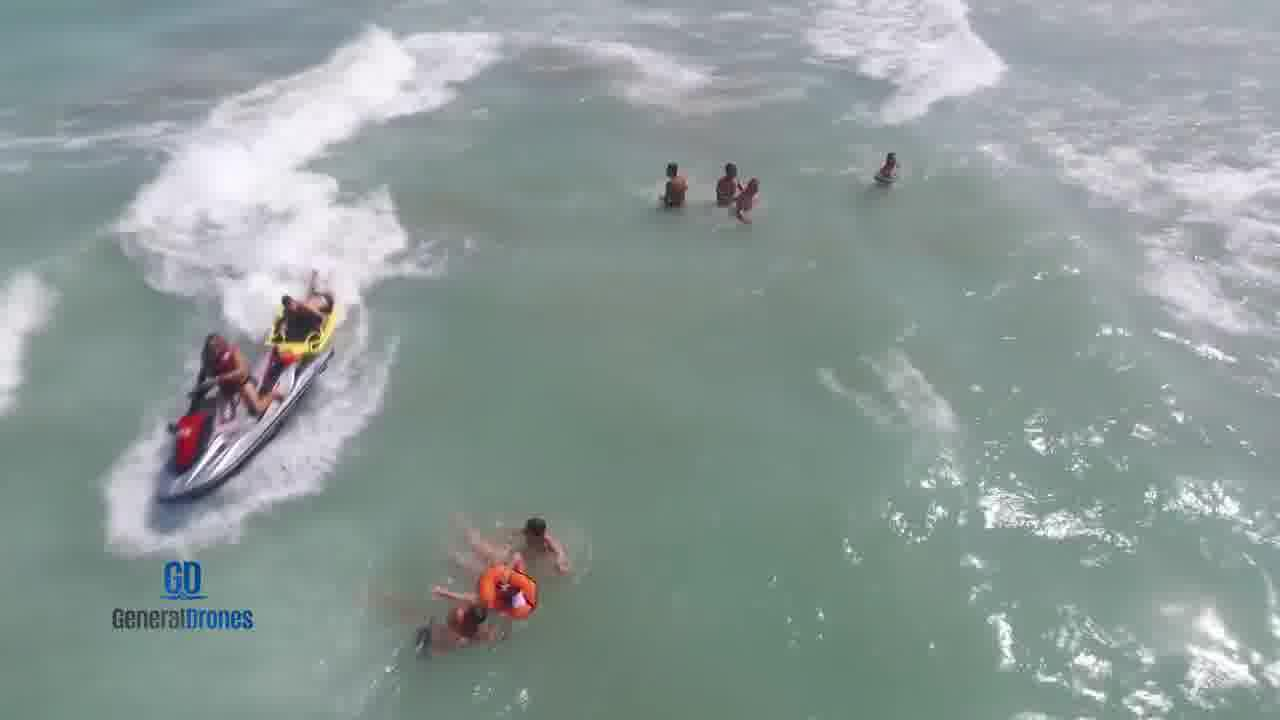human: (443, 507, 533, 614), (505, 497, 580, 572), (412, 603, 495, 654)
